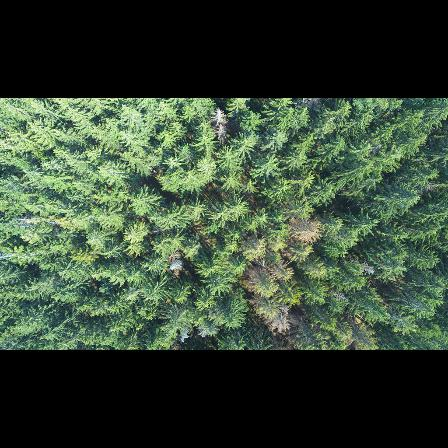Dead: (286, 214, 325, 244), (265, 308, 294, 334), (210, 108, 230, 139), (166, 254, 186, 274), (355, 260, 377, 276)
